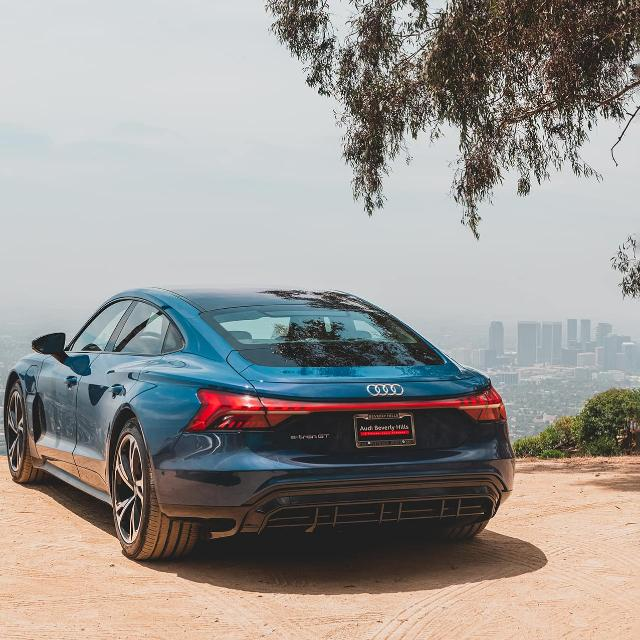audi: (3, 284, 517, 562)
